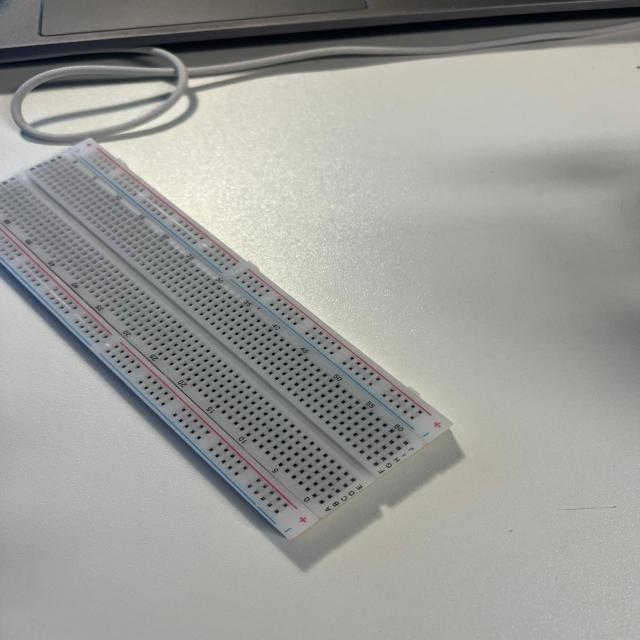BreadBoard: (3, 138, 465, 552)
